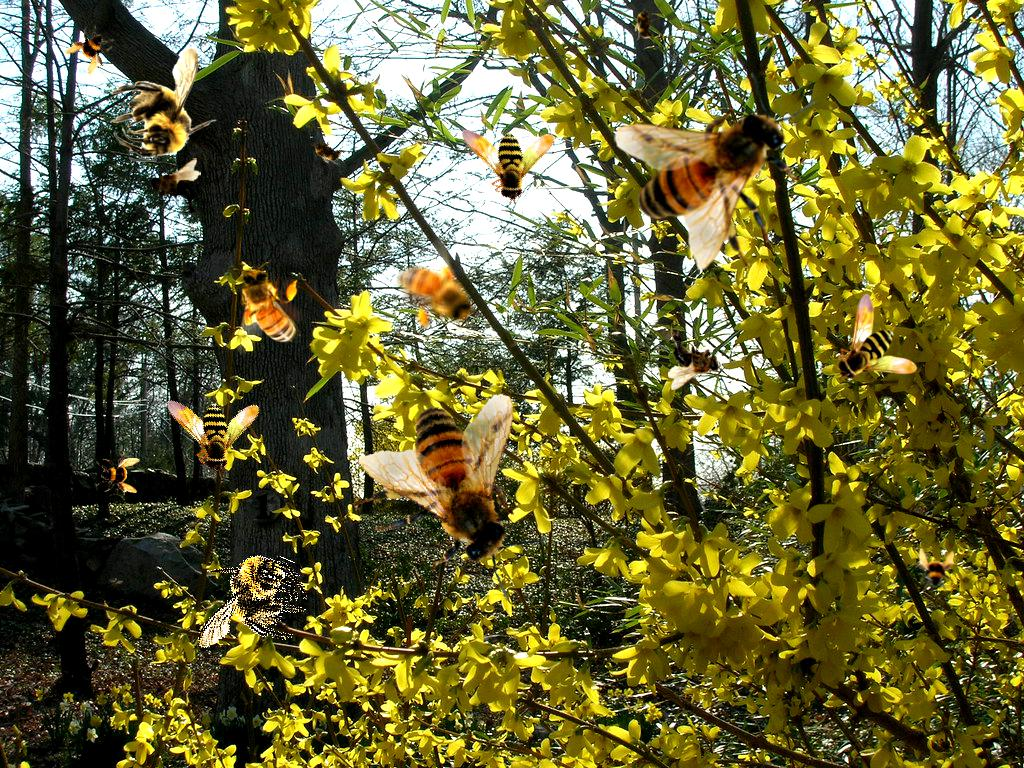Bee: (340, 372, 569, 606), (614, 71, 818, 270), (177, 531, 322, 680), (148, 360, 268, 480), (443, 89, 563, 209), (110, 47, 217, 162), (383, 233, 489, 348), (835, 293, 917, 381), (233, 262, 301, 355), (61, 19, 123, 81), (148, 158, 201, 220), (668, 328, 721, 390), (96, 451, 140, 495), (912, 548, 956, 592), (304, 131, 350, 171), (633, 3, 657, 45)
